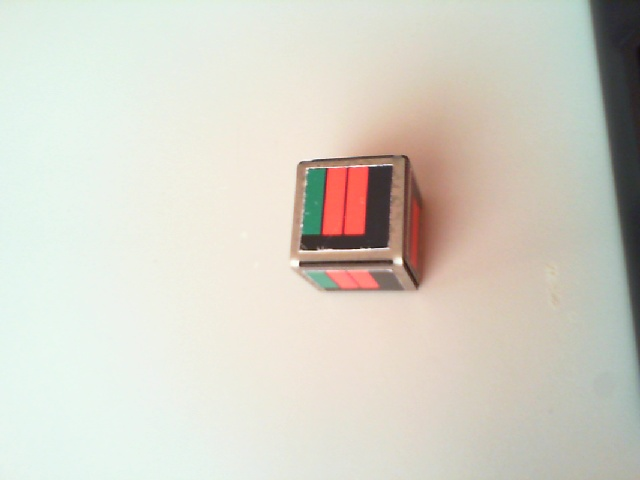square: (303, 167, 391, 251)
